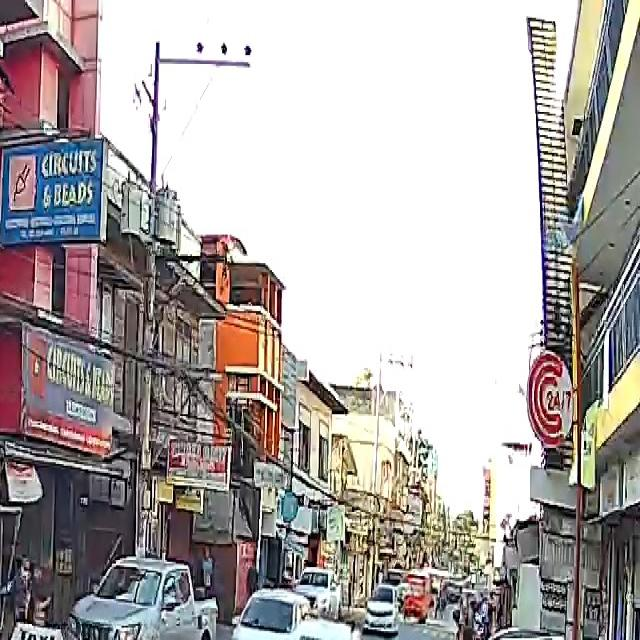car: (68, 556, 218, 640), (222, 586, 315, 640), (296, 568, 342, 616), (471, 627, 636, 640), (247, 626, 378, 640), (367, 592, 400, 635), (0, 638, 198, 640)
